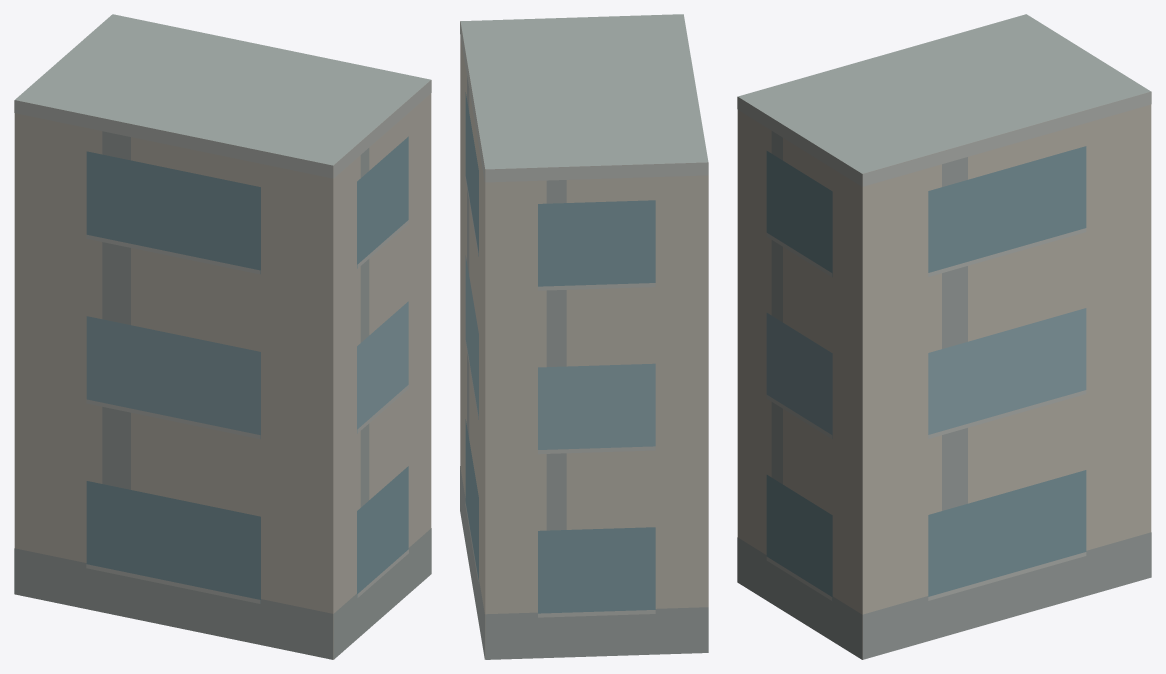
File: survey-upis-32808714.glb
The picture shows the model from 3 angles, left to right: view 1: azimuth 30°, elevation 25°; view 2: azimuth 150°, elevation 25°; view 3: azimuth 270°, elevation 25°; orthographic projection.
Parts seen in each view (by area): view 1: survey-upis-32808714.tmp; view 2: survey-upis-32808714.tmp; view 3: survey-upis-32808714.tmp.
Boxes of the visible parts, x1=… form: survey-upis-32808714.tmp: x1=14, y1=14, x2=431, y2=659; survey-upis-32808714.tmp: x1=460, y1=14, x2=708, y2=659; survey-upis-32808714.tmp: x1=737, y1=14, x2=1151, y2=659.
Size of the model in its own units: 6.47 by 9.15 by 7.07.
